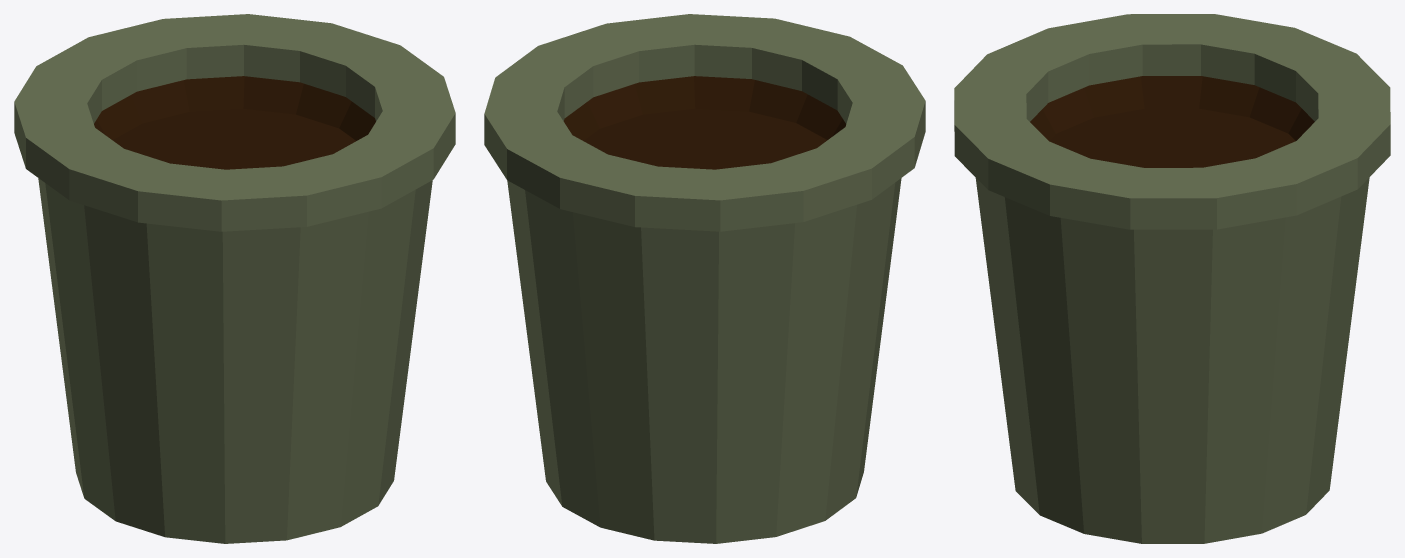
File: Pot_01.fbx
3 views of the same model, side by side, from view 1: azimuth 30°, elevation 25°; view 2: azimuth 150°, elevation 25°; view 3: azimuth 270°, elevation 25° (orthographic).
Visible parts, largest first — view 1: Pot; view 2: Pot; view 3: Pot.
Boxes of the visible parts, x1,y1,x2,y2 form: Pot: (14, 14, 455, 543); Pot: (484, 14, 925, 543); Pot: (954, 14, 1390, 543).
Size of the model in its own units: 38.48 by 36.14 by 38.48.
